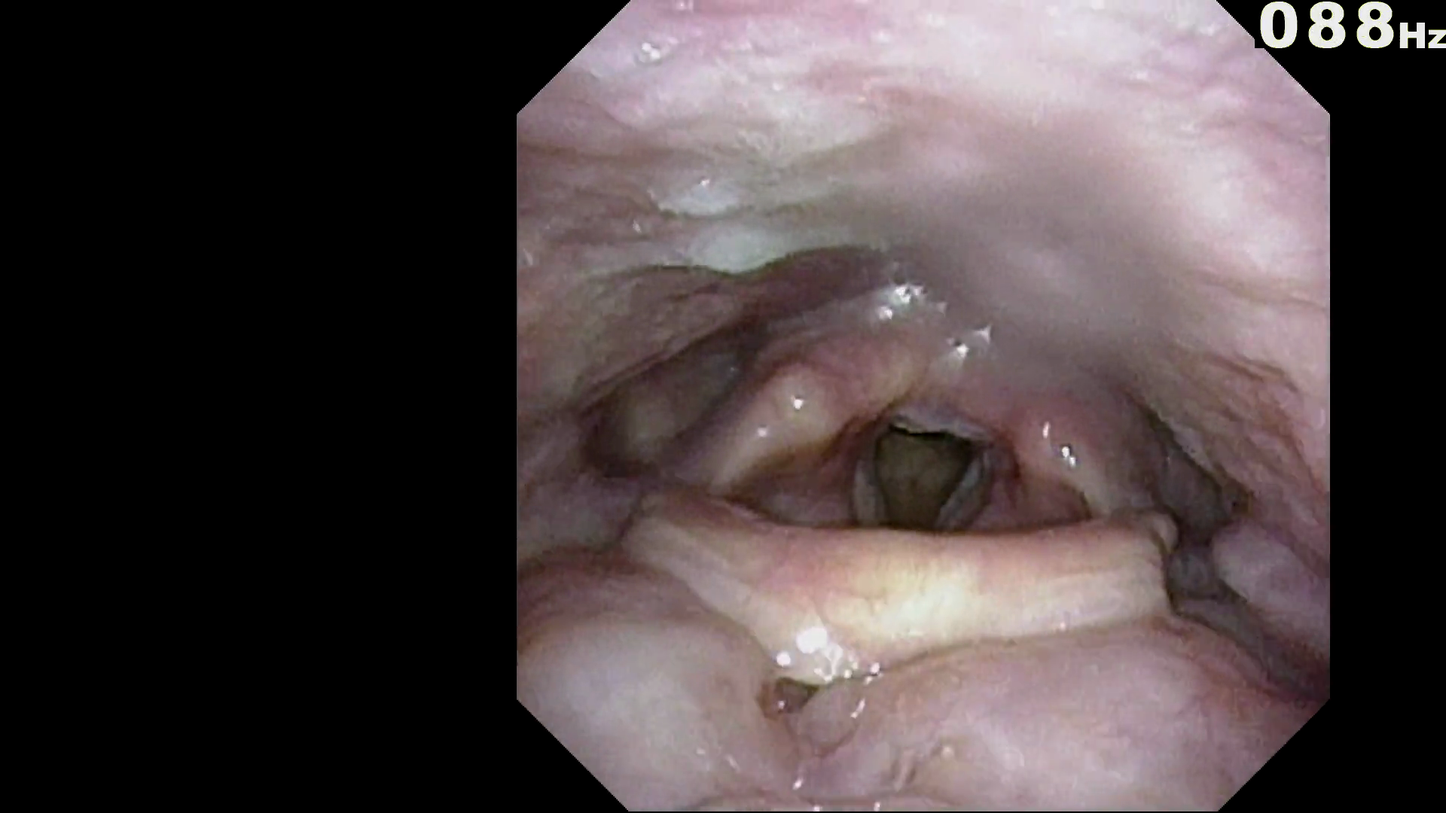epiglottis: (623, 515, 1182, 693)
trachea: (863, 422, 985, 547)
